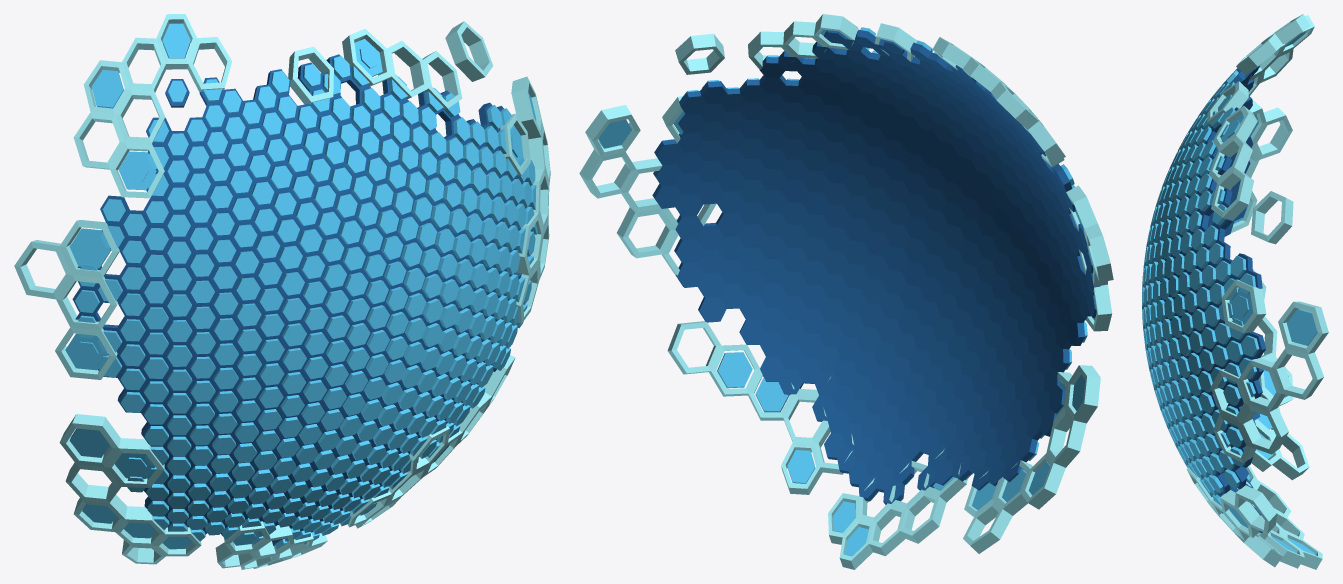
Rendered from escudo_1_esfera.glb.
The picture shows the model from 3 angles, left to right: view 1: azimuth 30°, elevation 25°; view 2: azimuth 150°, elevation 25°; view 3: azimuth 270°, elevation 25°; orthographic projection. The views are drawn at different scales.
Visible parts, largest first — view 1: escudo_1_esfera; view 2: escudo_1_esfera; view 3: escudo_1_esfera.
Boxes of the visible parts, left/top/right/bottom form: escudo_1_esfera: left=14, top=14, right=550, bottom=569; escudo_1_esfera: left=579, top=14, right=1113, bottom=569; escudo_1_esfera: left=1142, top=14, right=1328, bottom=569.
Bounding box in the file's own units: 4.1 × 4.14 × 1.37.
Materials: 1 (1 with a texture image).
